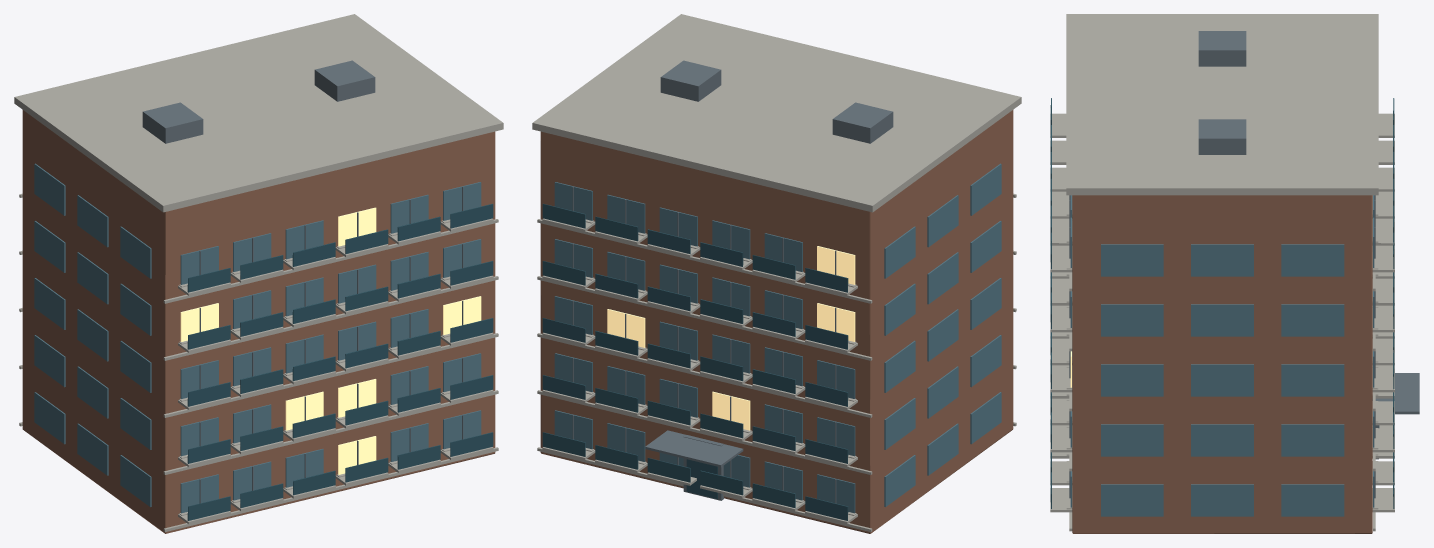
The model's file is Apartment.fbx.
The picture shows the model from 3 angles, left to right: view 1: azimuth 30°, elevation 25°; view 2: azimuth 150°, elevation 25°; view 3: azimuth 270°, elevation 25°; orthographic projection. The views are drawn at different scales.
Visible parts, largest first — view 1: Apartment_LOD; view 2: Apartment_LOD; view 3: Apartment_LOD.
Boxes of the visible parts, x1=… form: Apartment_LOD: x1=14, y1=14, x2=503, y2=533; Apartment_LOD: x1=532, y1=14, x2=1021, y2=533; Apartment_LOD: x1=1050, y1=14, x2=1419, y2=533.
Bounding box in the file's own units: 20.58 × 20.08 × 18.44.
